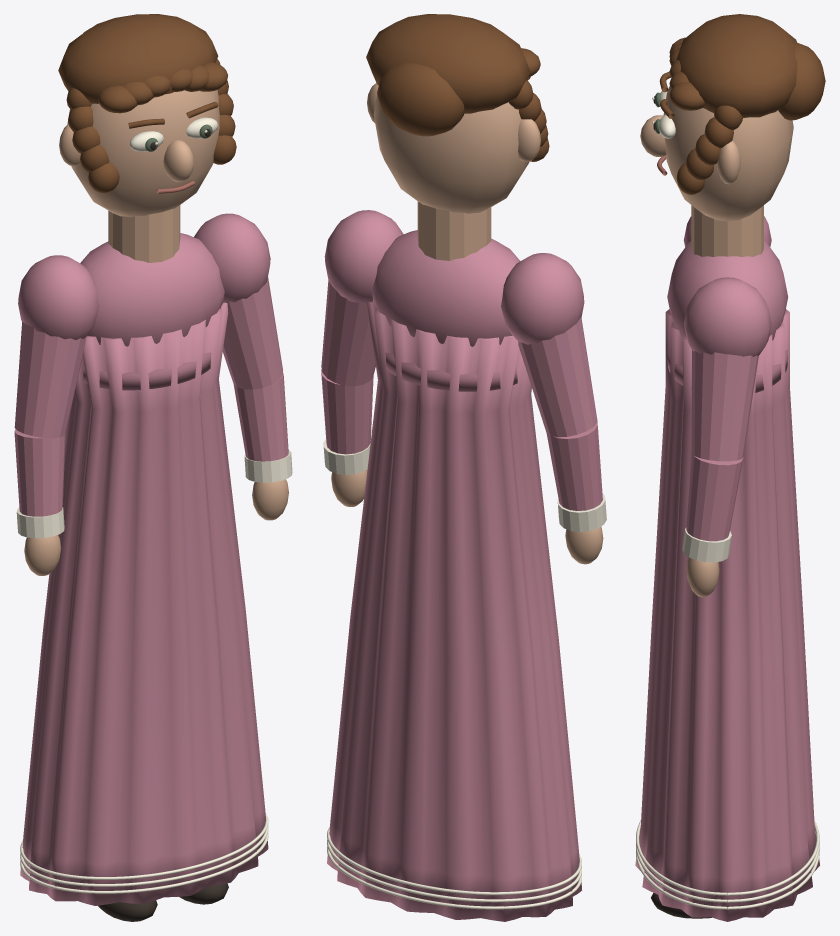
The model's file is georgiana.glb.
3 renders of one model, left to right at view 1: azimuth 30°, elevation 25°; view 2: azimuth 150°, elevation 25°; view 3: azimuth 270°, elevation 25°, orthographic. The views are drawn at different scales.
Visible parts, largest first — view 1: georgiana high waist gown, georgiana bodice, georgiana head, georgiana hair crown, georgiana sleeve upper, georgiana gathered sleeve, georgiana sleeve upper.001, georgiana gathered sleeve.001, georgiana sleeve lower, georgiana sleeve lower.001, georgiana neck, georgiana underbust sash (+13 smaller); view 2: georgiana high waist gown, georgiana head, georgiana bodice, georgiana hair crown, georgiana sleeve upper, georgiana gathered sleeve, georgiana coiled bun, georgiana gathered sleeve.001, georgiana sleeve upper.001, georgiana sleeve lower, georgiana neck, georgiana sleeve lower.001 (+9 smaller); view 3: georgiana high waist gown, georgiana hair crown, georgiana head, georgiana sleeve upper.001, georgiana gathered sleeve.001, georgiana bodice, georgiana sleeve lower.001, georgiana neck, georgiana coiled bun, georgiana cuff.001, georgiana hand.001, georgiana hem embroidery.002 (+11 smaller).
Part boxes in pixels (<box>): georgiana high waist gown: <box>20,302,268,905</box>; georgiana bodice: <box>80,233,224,346</box>; georgiana head: <box>67,90,219,217</box>; georgiana hair crown: <box>58,14,218,103</box>; georgiana sleeve upper: <box>14,322,86,438</box>; georgiana gathered sleeve: <box>18,255,99,339</box>; georgiana sleeve upper.001: <box>222,277,282,389</box>; georgiana gathered sleeve.001: <box>194,213,270,302</box>; georgiana sleeve lower: <box>14,429,65,516</box>; georgiana sleeve lower.001: <box>233,373,288,461</box>; georgiana neck: <box>108,205,180,262</box>; georgiana underbust sash: <box>82,352,211,390</box>; georgiana high waist gown: <box>327,301,582,921</box>; georgiana head: <box>373,95,529,213</box>; georgiana bodice: <box>372,230,520,346</box>; georgiana hair crown: <box>366,14,530,113</box>; georgiana sleeve upper: <box>518,317,597,437</box>; georgiana gathered sleeve: <box>501,253,584,344</box>; georgiana coiled bun: <box>377,62,464,136</box>; georgiana gathered sleeve.001: <box>324,210,403,303</box>; georgiana sleeve upper.001: <box>321,280,375,386</box>; georgiana sleeve lower: <box>546,421,602,510</box>; georgiana neck: <box>417,201,491,260</box>; georgiana sleeve lower.001: <box>321,369,373,454</box>; georgiana high waist gown: <box>635,309,819,921</box>; georgiana hair crown: <box>676,14,797,117</box>; georgiana head: <box>663,85,793,221</box>; georgiana sleeve upper.001: <box>692,350,758,461</box>; georgiana gathered sleeve.001: <box>684,277,771,356</box>; georgiana bodice: <box>667,240,788,340</box>; georgiana sleeve lower.001: <box>686,454,743,541</box>; georgiana neck: <box>691,205,763,256</box>; georgiana coiled bun: <box>778,42,825,120</box>; georgiana cuff.001: <box>682,527,731,562</box>; georgiana hand.001: <box>686,557,719,597</box>; georgiana hem embroidery.002: <box>636,820,819,895</box>.
Size of the model in its own units: 0.566 by 1.75 by 0.346.
